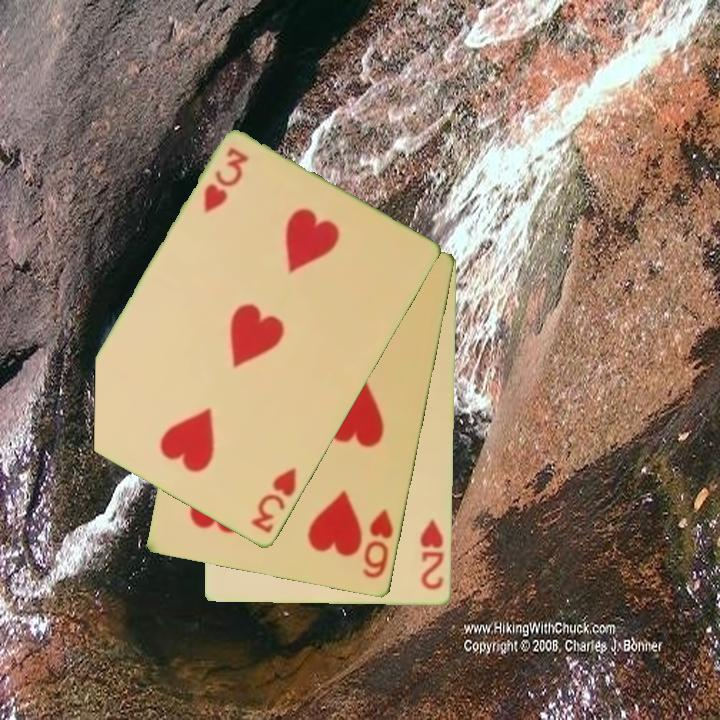2h: (417, 516, 448, 593)
3h: (247, 465, 300, 537), (200, 144, 252, 217)
6h: (359, 506, 397, 582)
